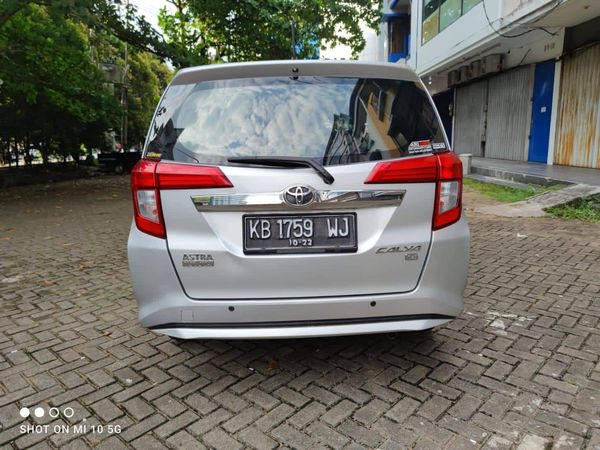plate: (243, 212, 358, 256)
